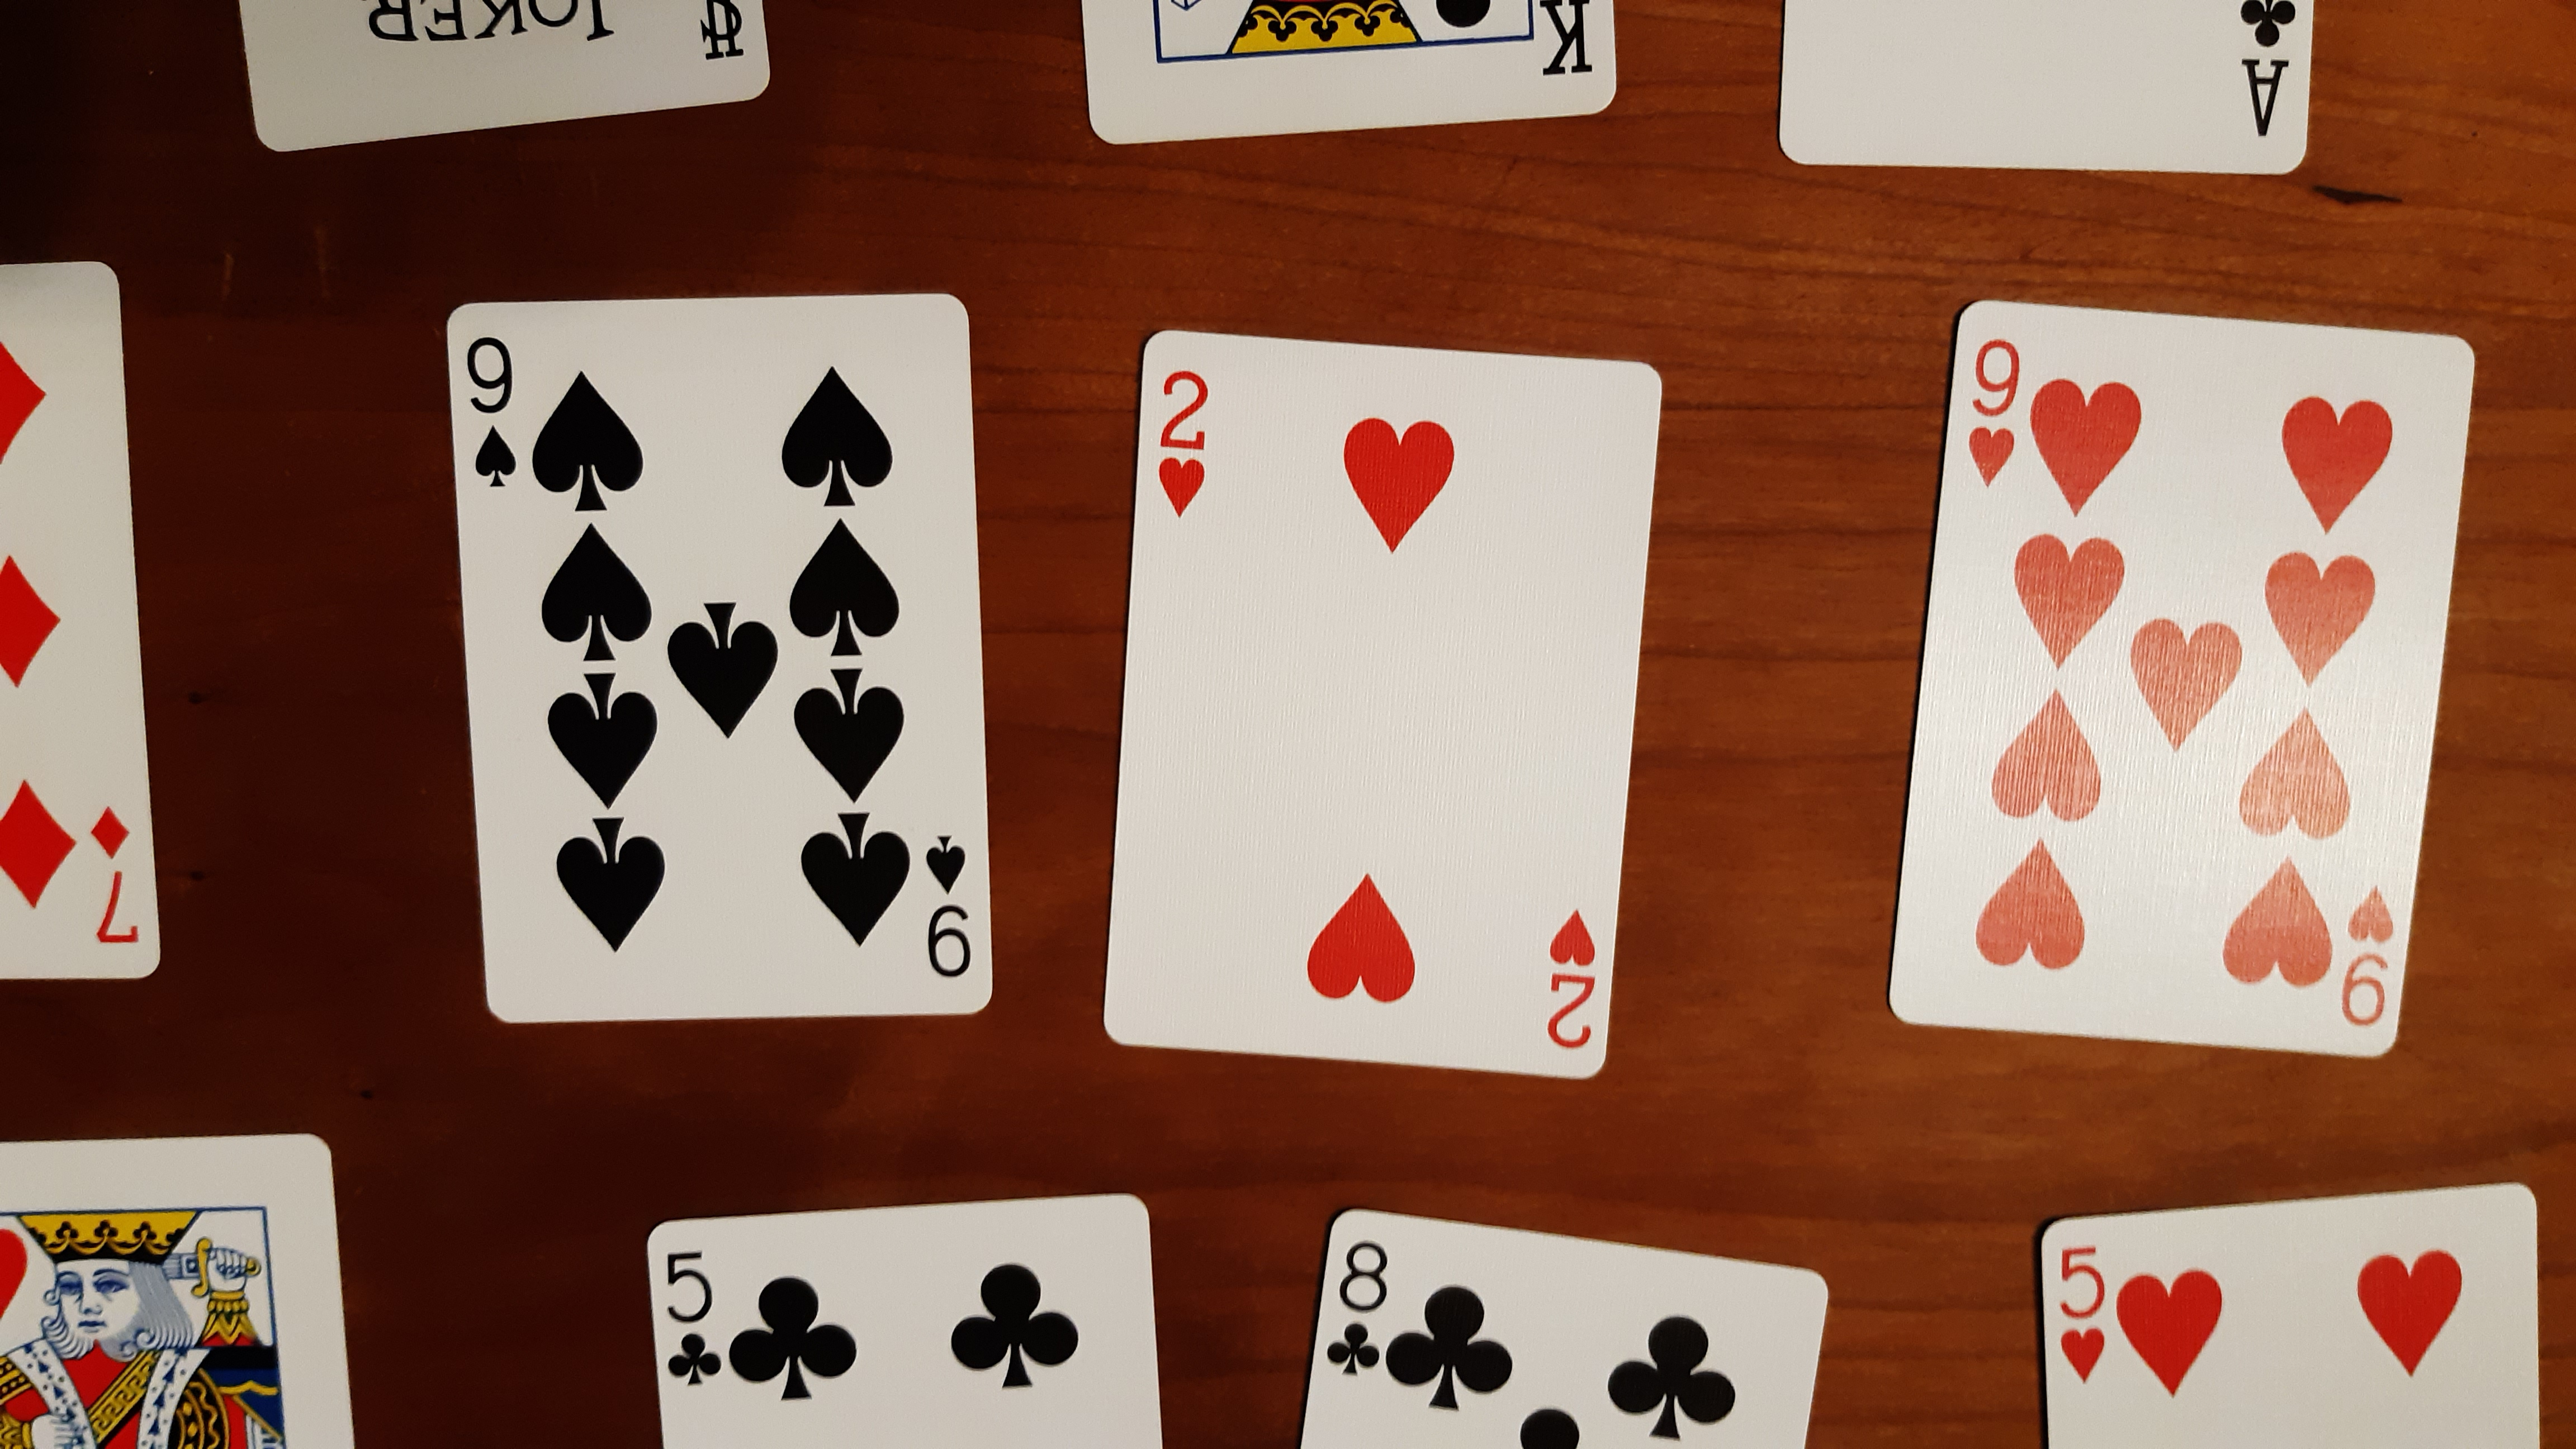Black_Club_5: (653, 1246, 727, 1391)
Black_Club_8: (1325, 1235, 1392, 1384)
Black_Club_Ace: (2235, 4, 2302, 142)
Black_Spade_9: (460, 315, 975, 994)
Joker: (364, 2, 621, 48)
Red_Heart_2: (1539, 902, 1606, 1058), (1152, 364, 1215, 520)
Red_Heart_5: (2051, 1237, 2114, 1384)
Red_Heart_9: (1971, 329, 2390, 1040)
